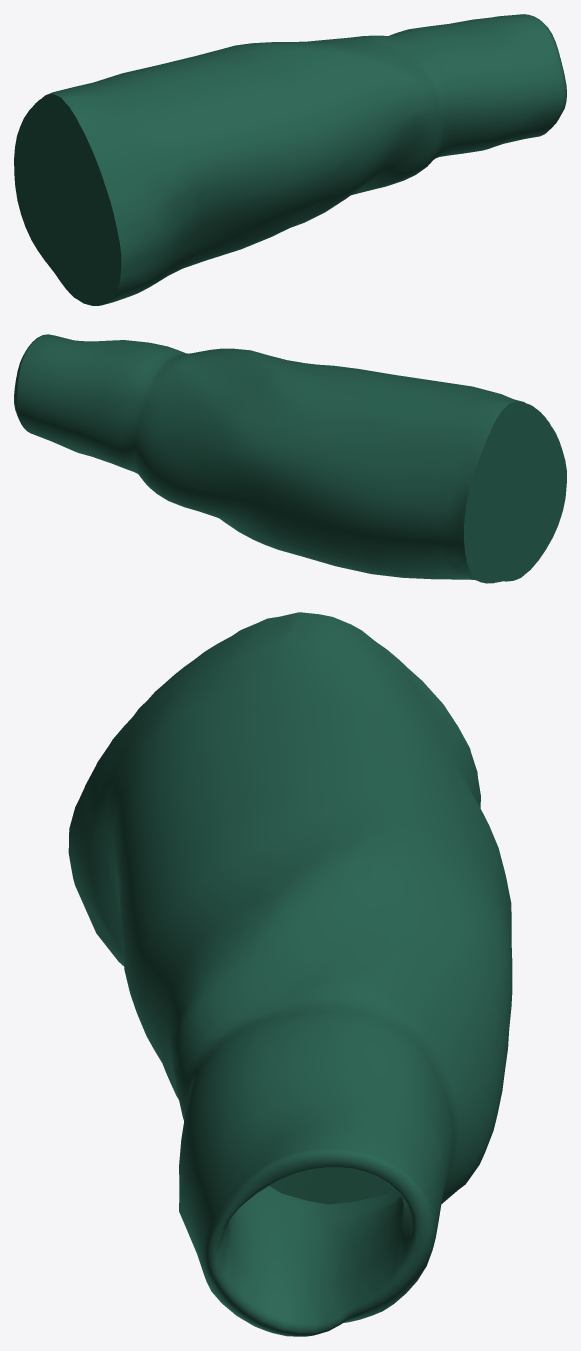
File: lowerarm_l.fbx
3 views of the same model, one above another, from view 1: azimuth 30°, elevation 25°; view 2: azimuth 150°, elevation 25°; view 3: azimuth 270°, elevation 25° (orthographic). The views are drawn at different scales.
Parts seen in each view (by area): view 1: lowerarm_l-1; view 2: lowerarm_l-1; view 3: lowerarm_l-1.
Part boxes in pixels (<box>): lowerarm_l-1: <box>14,14,566,305</box>; lowerarm_l-1: <box>14,334,566,583</box>; lowerarm_l-1: <box>68,612,512,1336</box>.
Size of the model in its own units: 0.2382 by 0.0979 by 0.0904.
